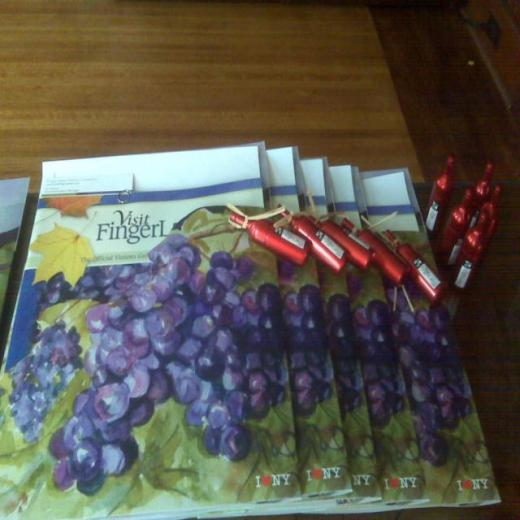Orange: (30, 230, 288, 497), (386, 303, 474, 462), (352, 302, 404, 431), (283, 286, 333, 417), (324, 289, 364, 409)
